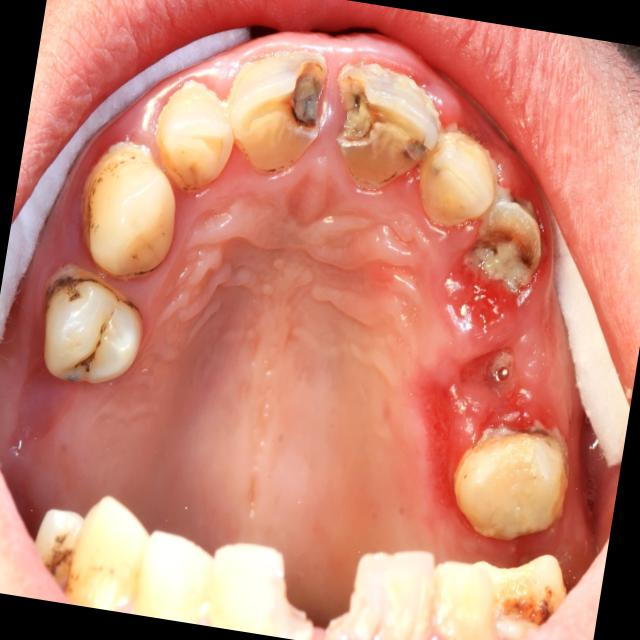Caries: (45, 275, 113, 312), (134, 260, 164, 275), (74, 351, 95, 368), (519, 429, 549, 437), (124, 301, 139, 311), (521, 257, 532, 269), (69, 291, 80, 301), (384, 173, 396, 182), (292, 107, 298, 122), (491, 248, 498, 256), (299, 119, 307, 125), (355, 95, 360, 104), (100, 325, 104, 333), (96, 341, 101, 347), (267, 169, 275, 172), (86, 363, 90, 368), (116, 297, 119, 302), (86, 368, 89, 372), (111, 312, 113, 316), (81, 363, 84, 365)
Cavity: (338, 72, 436, 159), (282, 59, 327, 136)
Tooth: (337, 63, 440, 190), (81, 141, 175, 280), (454, 427, 568, 540), (226, 50, 327, 174), (44, 264, 143, 384), (155, 81, 235, 192), (463, 196, 542, 295), (419, 130, 498, 227)
